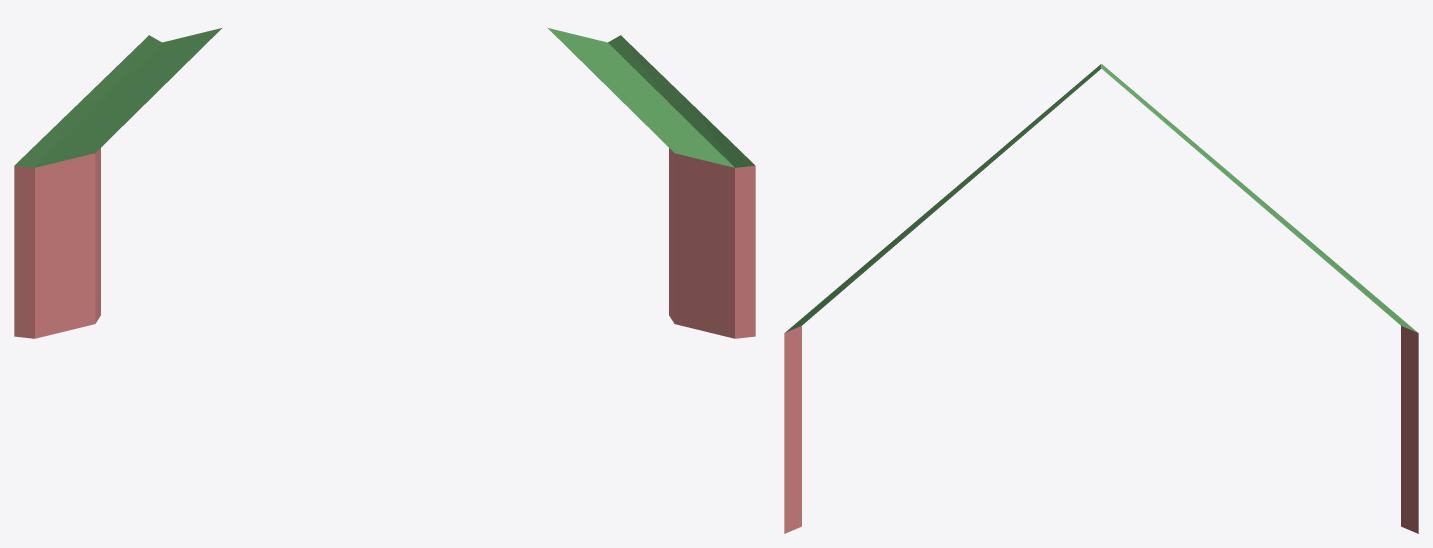
File: sylentemple_deco06.gltf
The picture shows the model from 3 angles, left to right: view 1: azimuth 30°, elevation 25°; view 2: azimuth 150°, elevation 25°; view 3: azimuth 270°, elevation 25°; orthographic projection. The views are drawn at different scales.
Visible parts, largest first — view 1: sylentemple_deco06; view 2: sylentemple_deco06; view 3: sylentemple_deco06.
Part boxes in pixels (<box>): sylentemple_deco06: <box>14,28,221,338</box>; sylentemple_deco06: <box>548,28,755,338</box>; sylentemple_deco06: <box>784,64,1418,533</box>.
Bounding box in the file's own units: 2.86 × 12.63 × 15.43.
